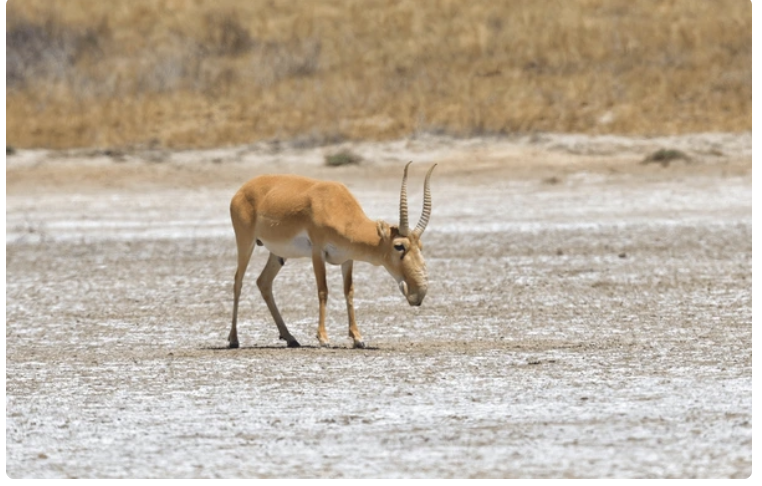saiga: (219, 156, 443, 356)
